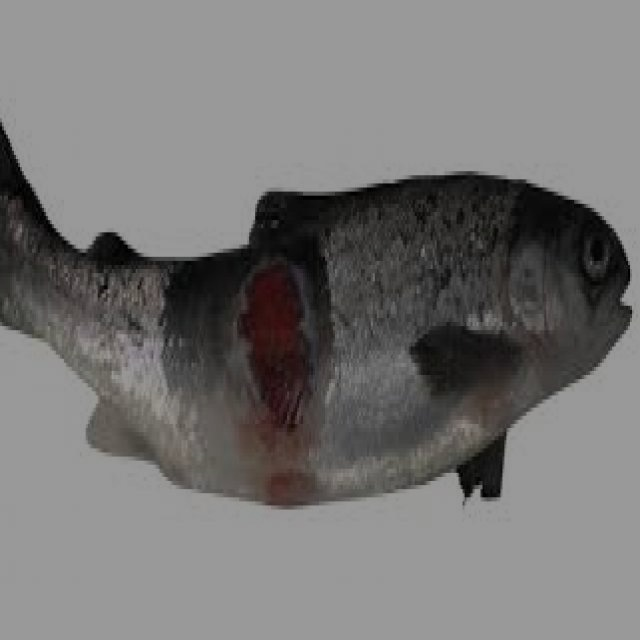EUS Disease: (0, 108, 632, 514), (169, 234, 382, 511)
